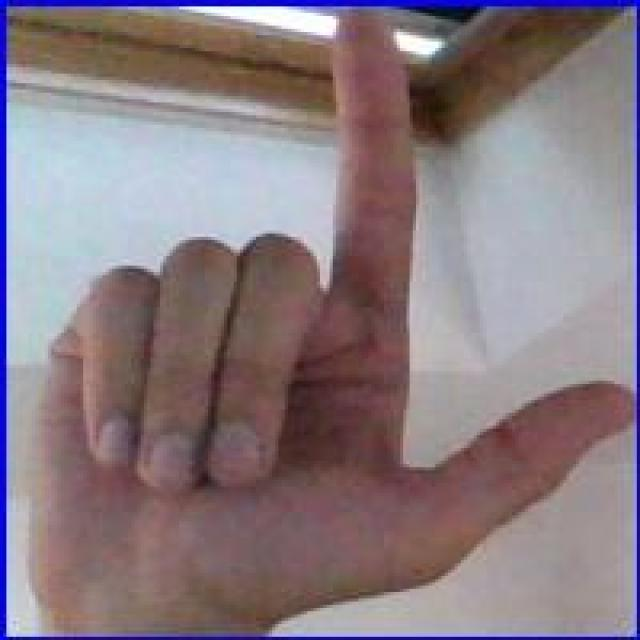L: (18, 6, 632, 624)
